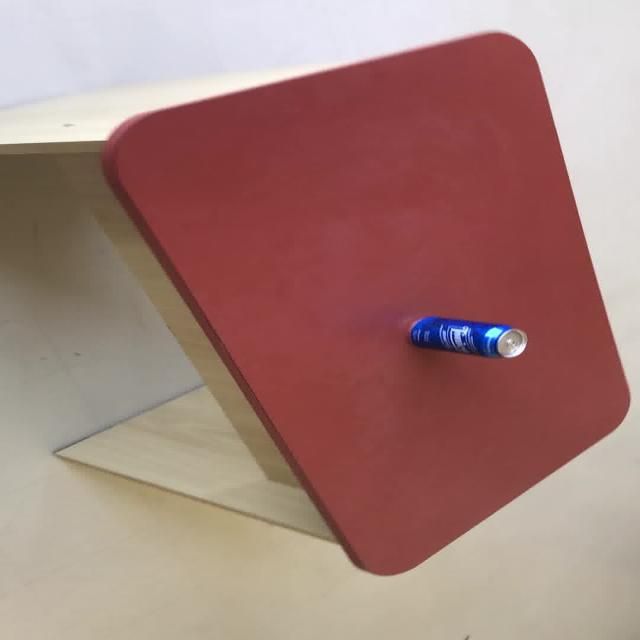tonic: (407, 315, 528, 358)
